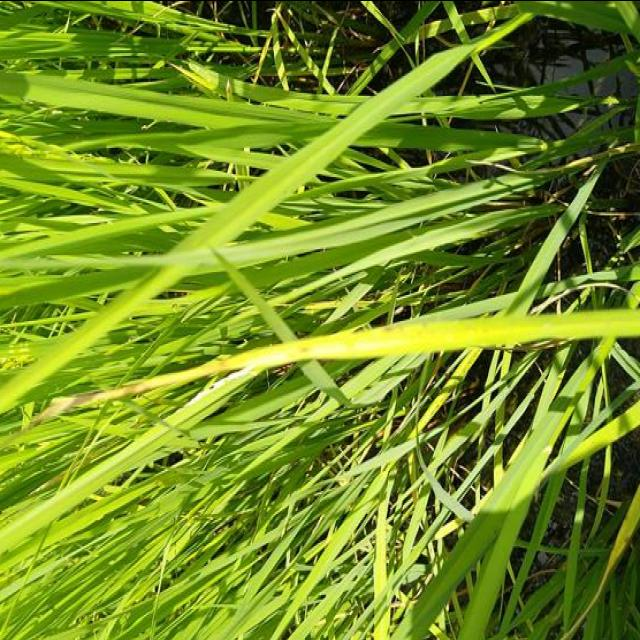Leaf Blight: (69, 299, 640, 404)
